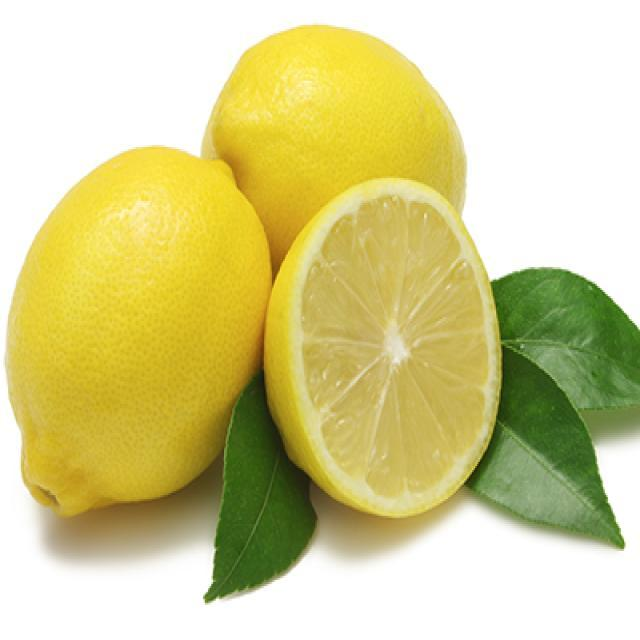lemon: (12, 146, 280, 515), (260, 172, 512, 522), (201, 22, 475, 264)
